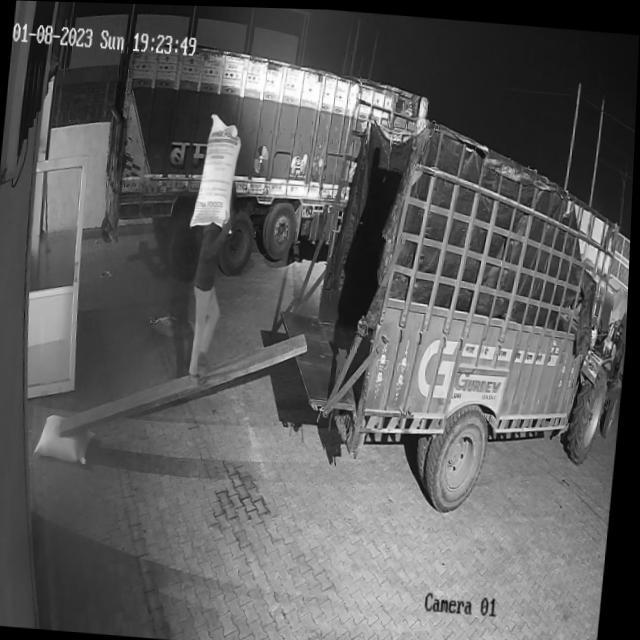sack: (192, 111, 244, 230), (38, 413, 98, 466)
